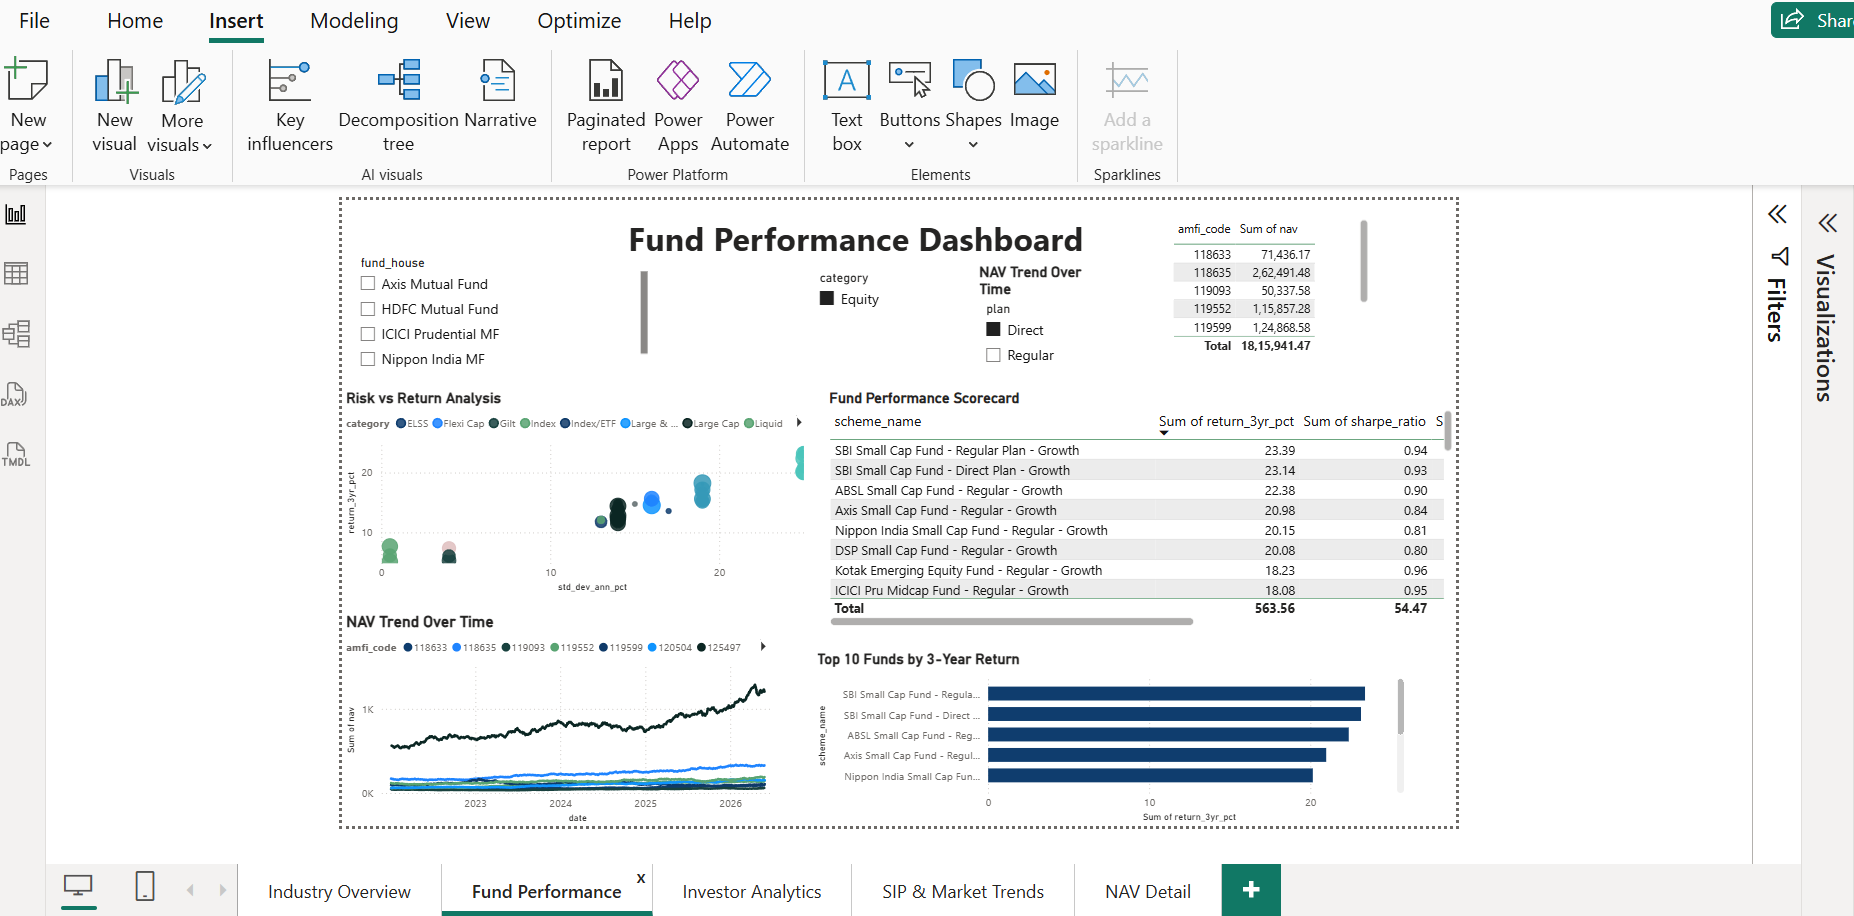

The dashboard page shown, as its layout file describes it:
{"tool":"powerbi","page":{"name":"Fund Performance","canvas":[1280,720],"ordinal":1},"visuals":[{"type":"textbox","box":[9.4,0,279.7,181.4],"z":0},{"type":"textbox","box":[37.8,13.2,1105.5,75.6],"z":1000},{"type":"slicer","fields":{"Values":["01_fund_master.fund_house"]},"box":[9.4,58.6,347.7,145.5],"z":2000},{"type":"slicer","title":"NAV Trend Over Time","fields":{"Values":["01_fund_master.plan"]},"box":[727.6,71.8,156.9,145.5],"z":3000},{"type":"slicer","fields":{"Values":["01_fund_master.category"]},"box":[536.7,75.6,160.6,85],"z":4000},{"type":"scatterChart","title":"Risk vs Return Analysis","fields":{"X":["07_scheme_performance.std_dev_ann_pct"],"Y":["07_scheme_performance.return_3yr_pct"],"Size":["Sum(07_scheme_performance.aum_crore)"],"Series":["07_scheme_performance.category"]},"box":[0,217,542.4,238],"z":5000},{"type":"tableEx","title":"Fund Performance Scorecard","fields":{"Values":["07_scheme_performance.scheme_name","Sum(07_scheme_performance.return_3yr_pct)","Sum(07_scheme_performance.sharpe_ratio)","Sum(07_scheme_performance.alpha)","Sum(07_scheme_performance.expense_ratio_pct)","Sum(07_scheme_performance.max_drawdown_pct)"]},"box":[555.4,217,725.4,276.9],"z":6000},{"type":"lineChart","title":"NAV Trend Over Time","fields":{"Category":["02_nav_history.date"],"Y":["Sum(02_nav_history.nav)"],"Series":["02_nav_history.amfi_code"]},"box":[0,474.4,503.6,246.1],"z":7000},{"type":"clusteredBarChart","title":"Top 10 Funds by 3-Year Return","fields":{"Category":["07_scheme_performance.scheme_name"],"Y":["Sum(07_scheme_performance.return_3yr_pct)"]},"box":[542,518,684,202],"z":8000},{"type":"tableEx","fields":{"Values":["02_nav_history.amfi_code","Sum(02_nav_history.nav)"]},"box":[950.6,17,234.3,164.4],"z":9000}]}

Visuals, with their boxes on the page's 1280x720 design canvas (x1, y1, x2, y2). These are canvas units, not pixel positions in the 1854x916 screenshot, which may show the page scaled, cropped or inside an application window:
textbox: (left=9, top=0, right=289, bottom=181)
textbox: (left=38, top=13, right=1143, bottom=89)
slicer - 01_fund_master.fund_house: (left=9, top=59, right=357, bottom=204)
"NAV Trend Over Time" slicer: (left=728, top=72, right=884, bottom=217)
slicer - 01_fund_master.category: (left=537, top=76, right=697, bottom=161)
"Risk vs Return Analysis" scatterChart: (left=0, top=217, right=542, bottom=455)
"Fund Performance Scorecard" tableEx: (left=555, top=217, right=1281, bottom=494)
"NAV Trend Over Time" lineChart: (left=0, top=474, right=504, bottom=720)
"Top 10 Funds by 3-Year Return" clusteredBarChart: (left=542, top=518, right=1226, bottom=720)
tableEx - 02_nav_history.amfi_code x Sum(02_nav_history.nav): (left=951, top=17, right=1185, bottom=181)
